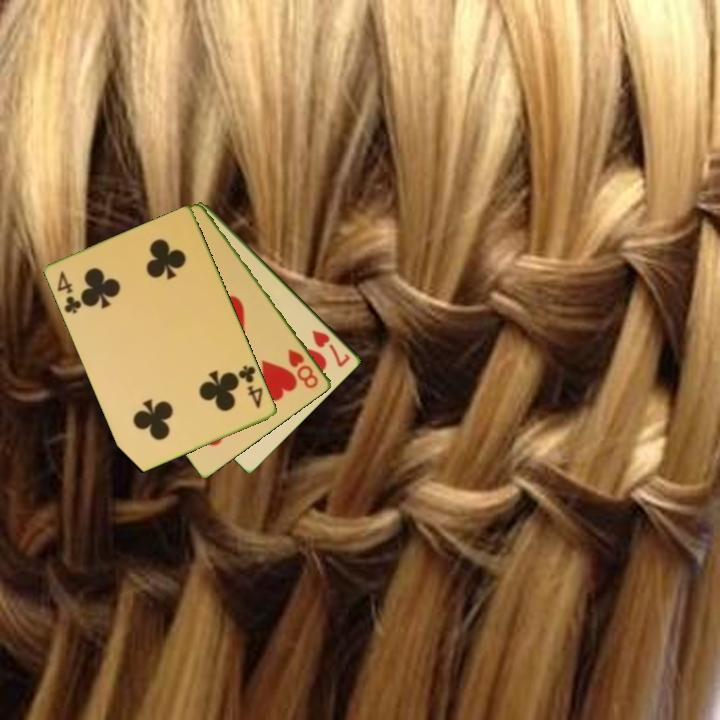4c: (54, 267, 85, 317), (235, 362, 266, 411)
7h: (309, 326, 353, 370)
8h: (285, 345, 322, 392)
